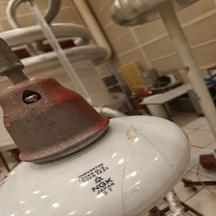insulator: (0, 63, 202, 214)
